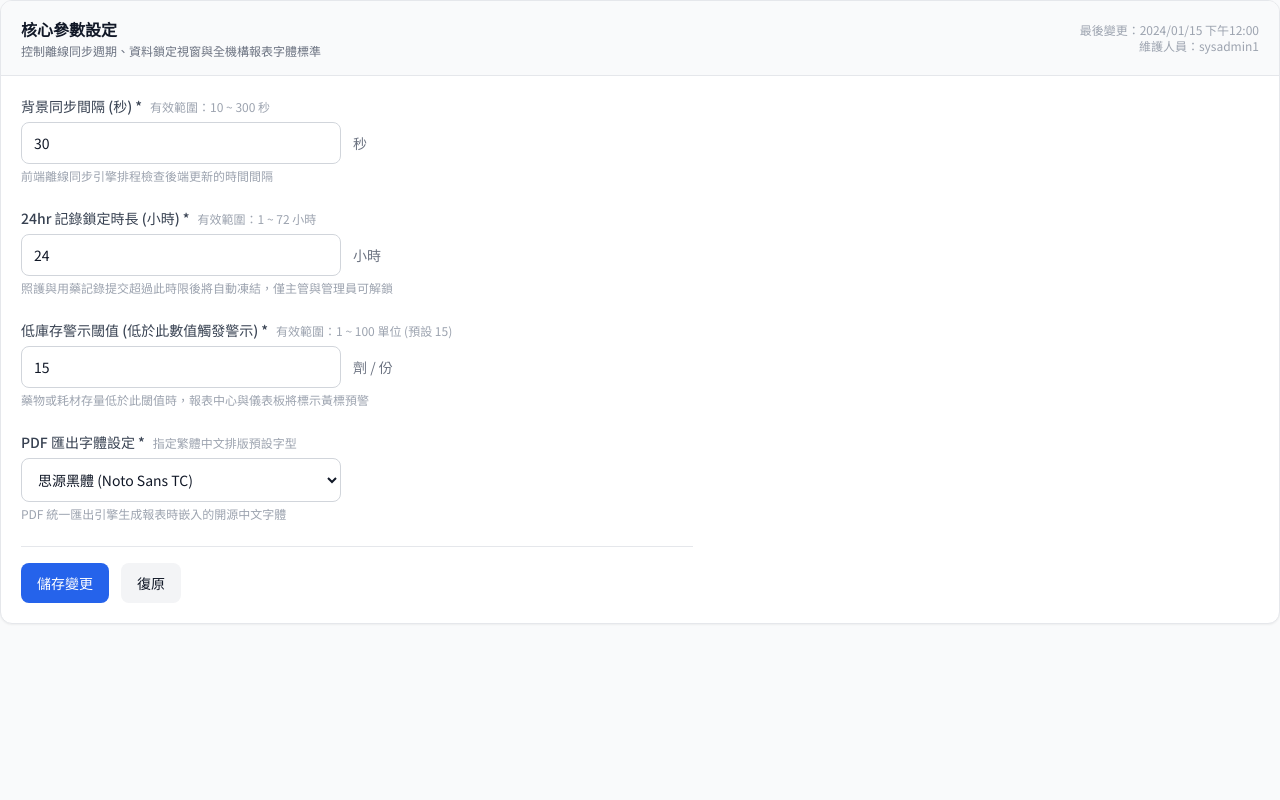
System Settings Form View (Feature F11) › resets form to initial values when clicking 復原 button
Replace the text in the number field named "背景同步間隔" with "90" at point(181, 143), box x1=21 y1=122 x2=341 y2=164
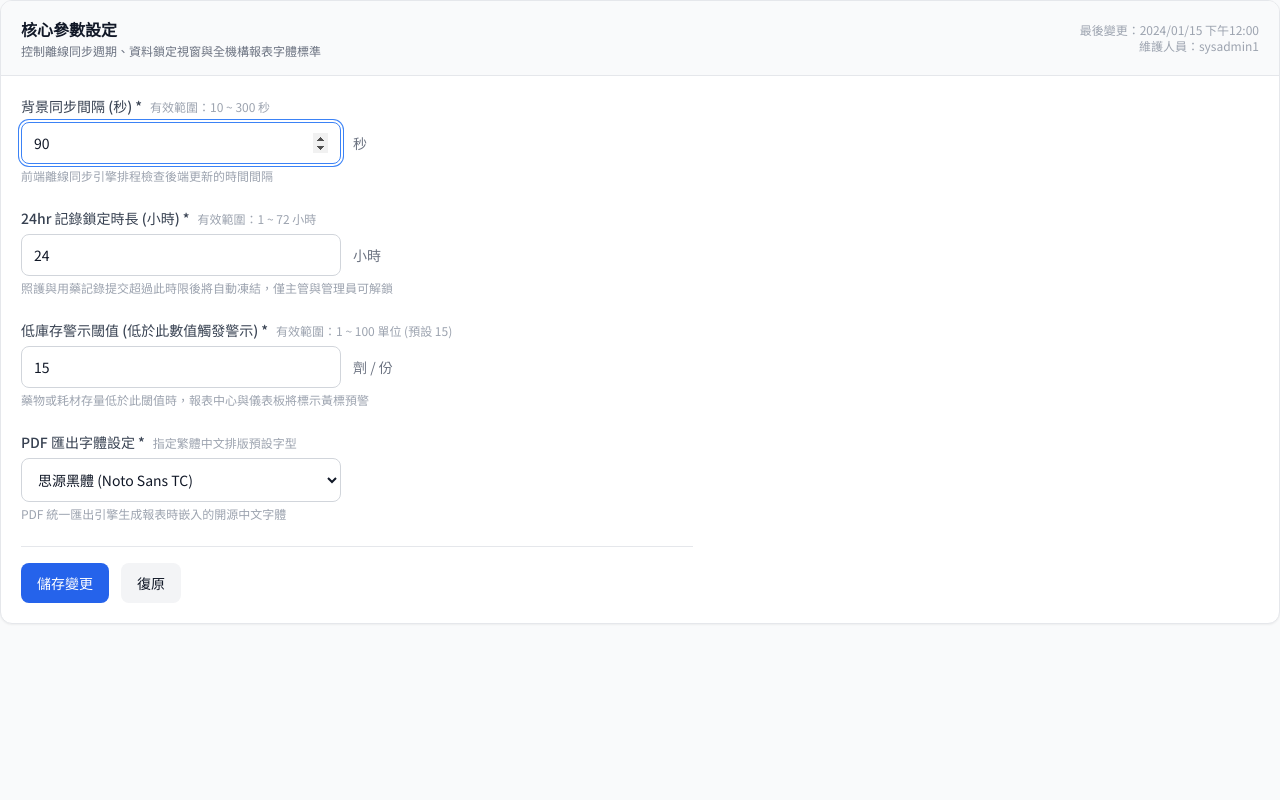
Click the button with aria-label "重設設定".
click(151, 583)  # box x1=121 y1=563 x2=181 y2=603
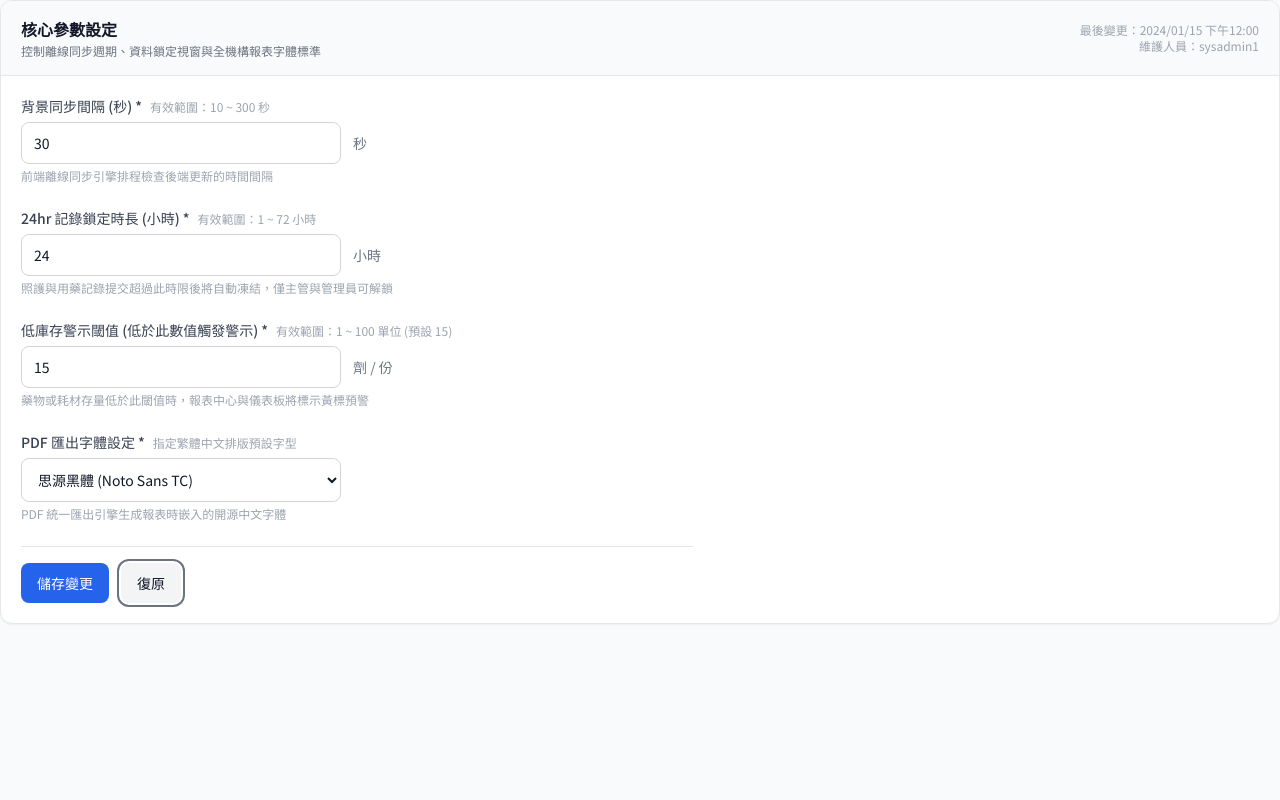
expect the number field named "背景同步間隔" holds "30": met, box x1=21 y1=122 x2=341 y2=164
